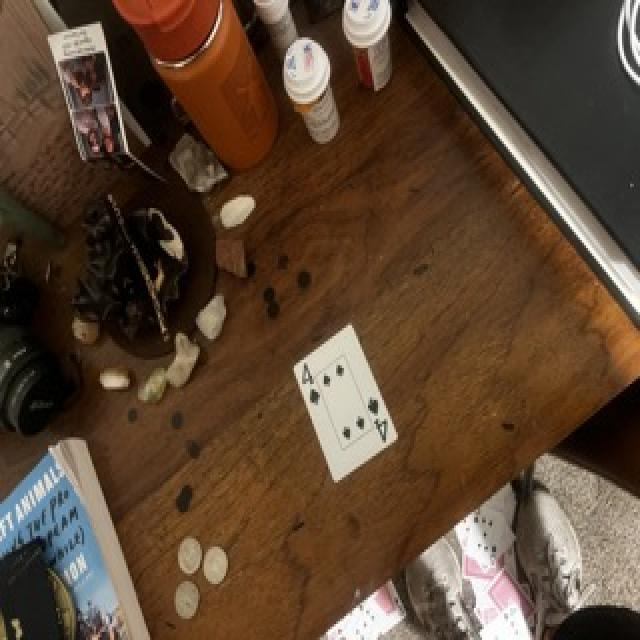4 of spades: (294, 325, 398, 482)
